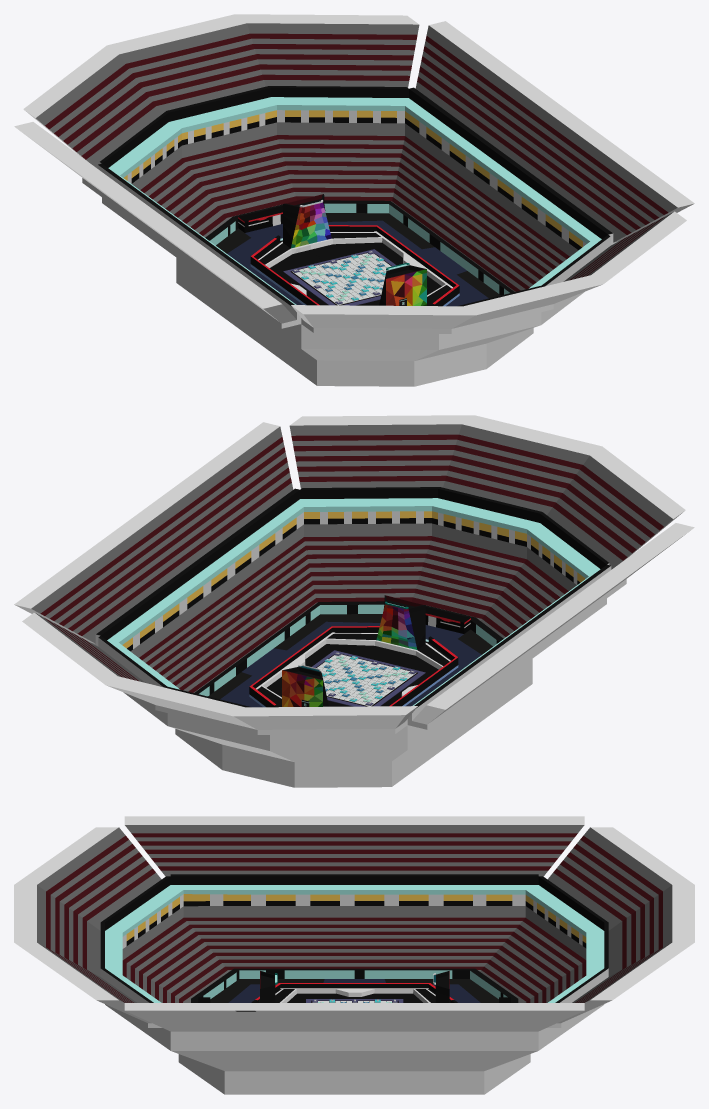
Rendered from newboard.fbx.
3 views of the same model, one above another, from view 1: azimuth 30°, elevation 25°; view 2: azimuth 150°, elevation 25°; view 3: azimuth 270°, elevation 25° (orthographic). The views are drawn at different scales.
Parts seen in each view (by area): view 1: Cube.000; view 2: Cube.000; view 3: Cube.000.
Part boxes in pixels (left/top/right/bottom): Cube.000: left=14, top=14, right=694, bottom=386; Cube.000: left=14, top=415, right=694, bottom=787; Cube.000: left=14, top=816, right=694, bottom=1094.
Size of the model in its own units: 3032 by 962 by 4488.
